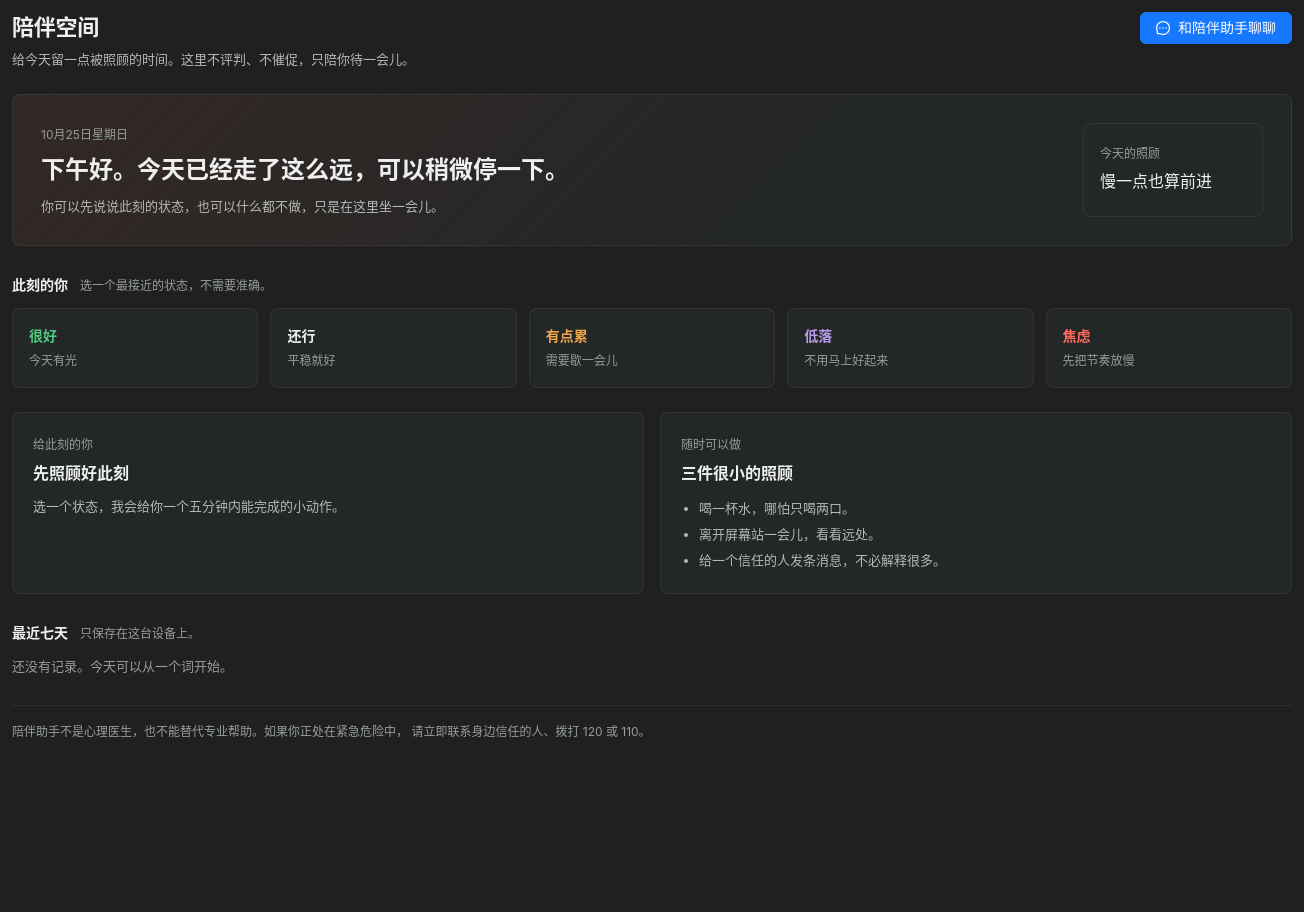
Test: CompanionSpace › 记录心情并展示对应的关怀建议
Expected: the heading "陪伴空间" is shown, [12,14,99,40]
Click the button "有点累 需要歇一会儿".
click(652, 348)  # box [529,308,775,388]
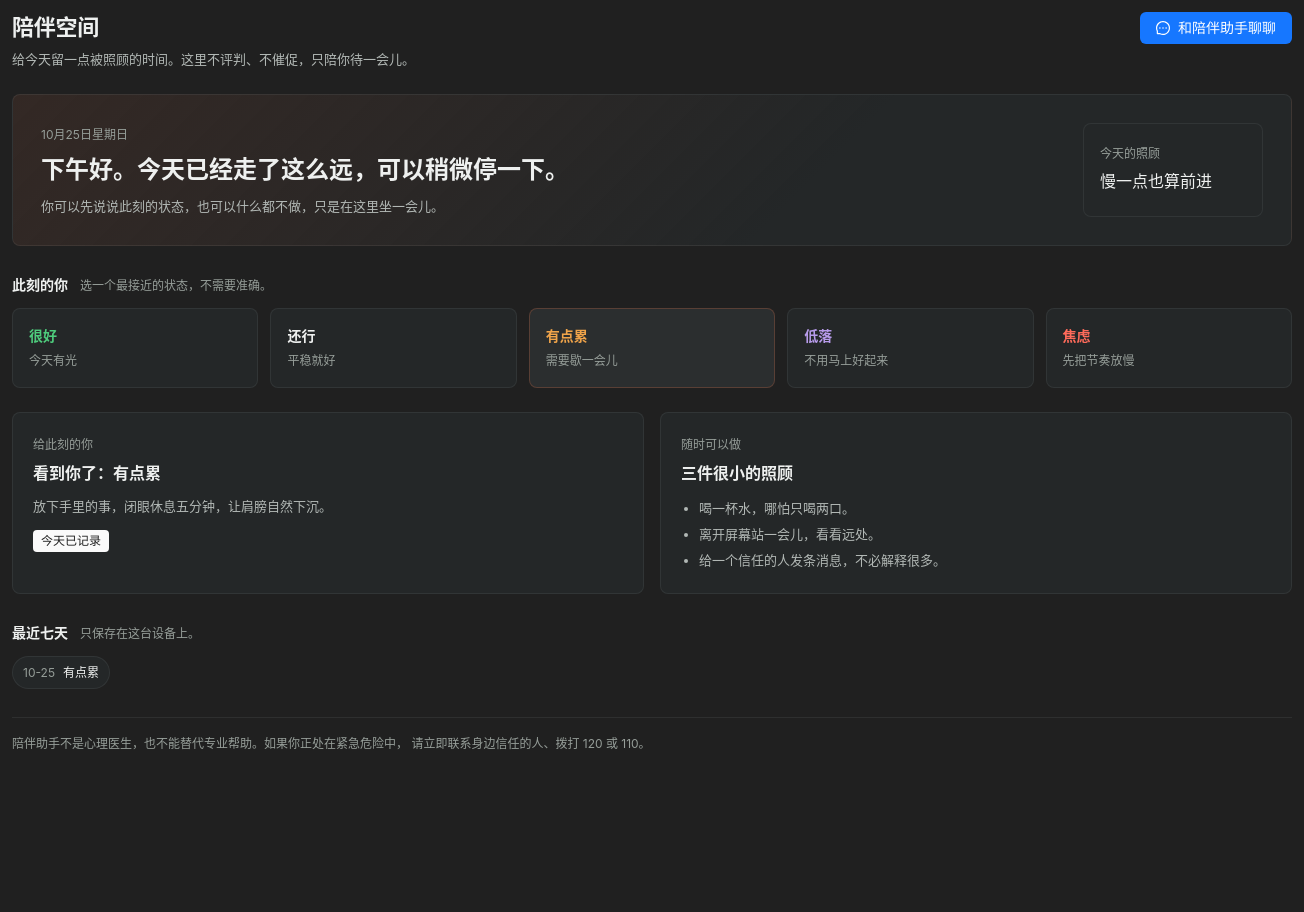
Expected: the heading "看到你了：有点累" is shown, [33,463,161,483]
Expected: the text "今天已记录" is shown, [33,530,109,552]
Expected: the text "放下手里的事，闭眼休息五分钟，让肩膀自然下沉。" is shown, [33,498,332,514]
